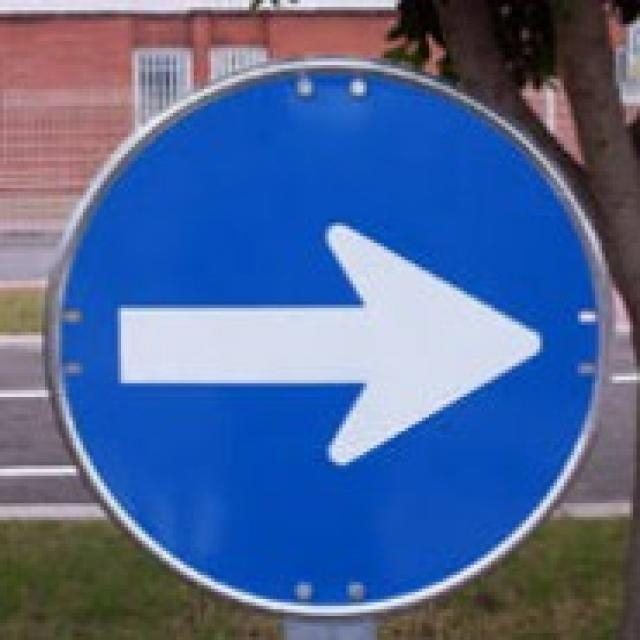Turn Right: (42, 62, 610, 624)
